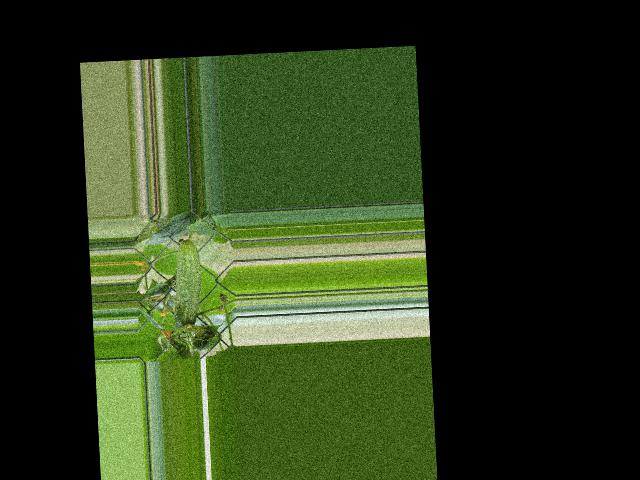cucumber: (170, 233, 203, 333)
